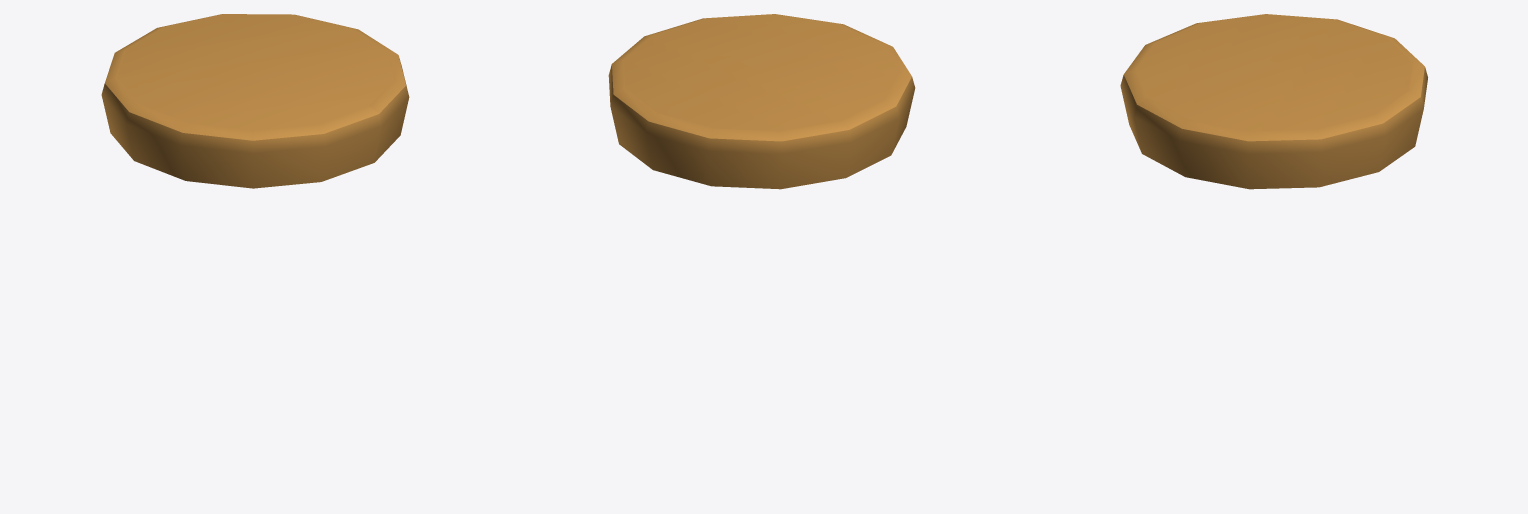
Rendered from Frasco_2.fbx.
3 views of the same model, side by side, from view 1: azimuth 30°, elevation 25°; view 2: azimuth 150°, elevation 25°; view 3: azimuth 270°, elevation 25° (orthographic).
Parts seen in each view (by area): view 1: Frasco_2; view 2: Frasco_2; view 3: Frasco_2.
Boxes of the visible parts, left/top/right/bottom form: Frasco_2: left=101, top=14, right=409, bottom=188; Frasco_2: left=608, top=14, right=915, bottom=189; Frasco_2: left=1120, top=14, right=1427, bottom=189.
Bounding box in the file's own units: 35.66 × 27.84 × 35.65.
1 material, 1 textured.
